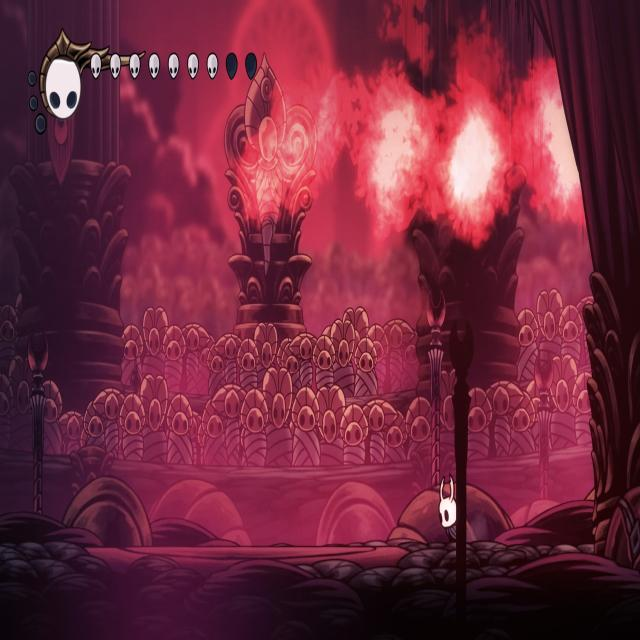Fireball: (364, 80, 426, 216), (248, 106, 331, 200), (442, 108, 503, 227), (538, 89, 590, 203)
Player: (437, 468, 463, 548)
